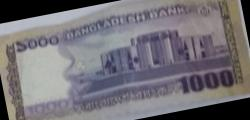1000 taka: (3, 18, 246, 104)
